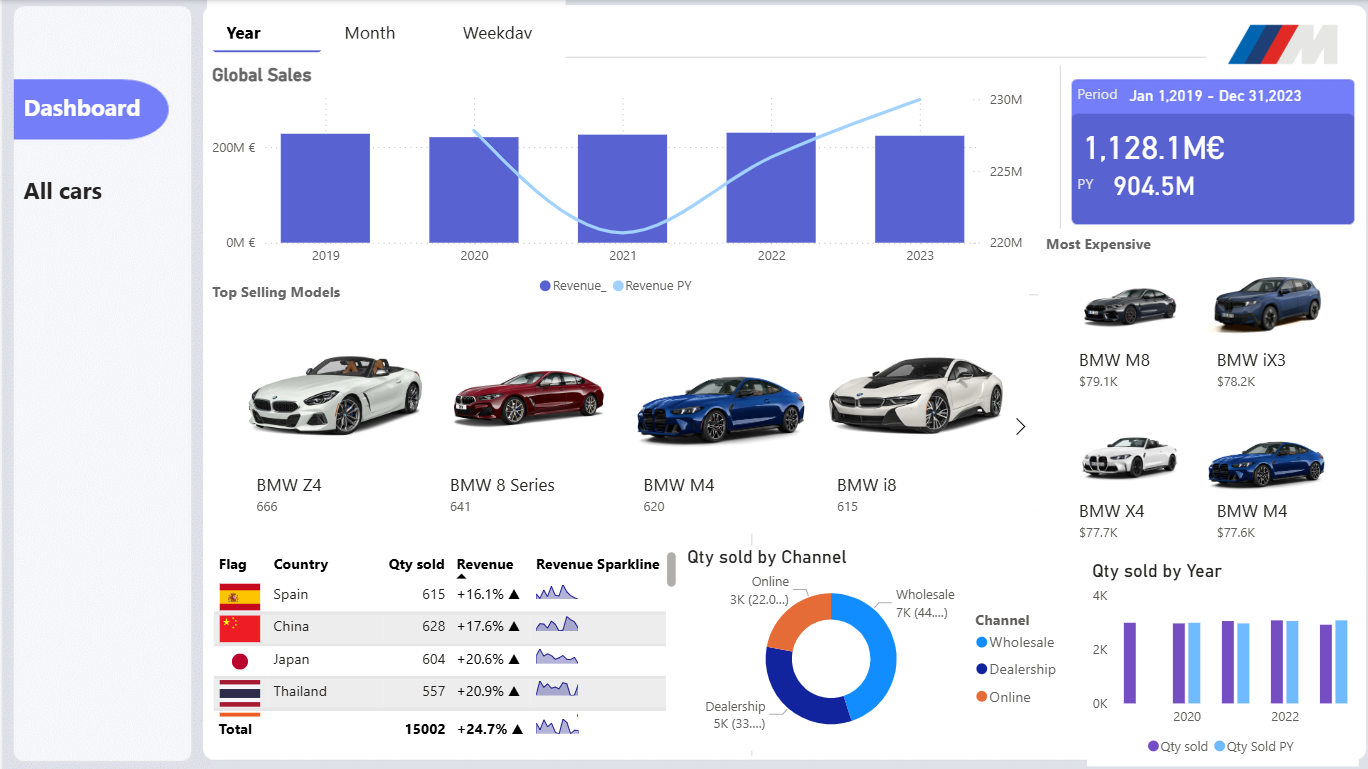

Layout of this report page (visuals, bound fields, positions):
{"tool":"powerbi","page":{"name":"Dashboard","canvas":[1280,720],"ordinal":0},"visuals":[{"type":"lineClusteredColumnComboChart","title":"Global Sales","fields":{"Category":["Calendar.Year"],"Y":["All Measures.Revenue"],"Y2":["All Measures.Revenue PY"]},"box":[190.6,59.3,764.5,224.7],"z":0},{"type":"card","fields":{"Values":["All Measures.Revenue"]},"box":[966.8,113.8,210.1,42.8],"z":1000},{"type":"card","fields":{"Values":["All Measures.Revenue PY"]},"box":[1001.1,150.7,141,42.6],"z":2000},{"type":"textbox","box":[995,156.6,37.9,31.1],"z":3000},{"type":"card","fields":{"Values":["All Measures.Selected Period"]},"box":[994.9,68.3,267.8,42.6],"z":4000},{"type":"advancedSlicerVisual","fields":{"Values":["PeriodSlicer.PeriodSlicer"]},"box":[190.7,0,333.7,54.7],"z":5000},{"type":"textbox","box":[190.6,256.8,147.8,27.2],"z":6000},{"type":"advancedSlicerVisual","fields":{"Values":["dimModel.Model"]},"box":[199.4,296.7,764.5,200.4],"z":7000},{"type":"advancedSlicerVisual","fields":{"Values":["dimModel.Model"]},"box":[963.9,238.3,298.6,282.1],"z":8000},{"type":"textbox","box":[966.8,213,148.8,27.2],"z":9000},{"type":"clusteredColumnChart","title":"Qty sold by Year","fields":{"Y":["All Measures.Qty sold","All Measures.Qty Sold PY"],"Category":["Calendar.Year"]},"box":[1009.6,520.4,252.9,191.6],"z":10000},{"type":"donutChart","fields":{"Y":["All Measures.Qty sold"],"Category":["dimChannel.Channel"]},"box":[632.2,507.7,362.8,190.6],"z":11000},{"type":"tableEx","fields":{"Values":["dimCountry.Flag","dimCountry.Country","All Measures.Qty sold","All Measures.RevenueVariance % Arrow","All Measures.Revenue Sparkline"]},"box":[190.6,507.7,441.6,190.6],"z":12000},{"type":"textbox","box":[15.6,80.7,159.5,51.6],"z":13000},{"type":"actionButton","box":[14.6,144,127.4,69.1],"z":14000},{"type":"textbox","box":[14.6,156.6,106,43.8],"z":15000},{"type":"actionButton","box":[15.6,80.7,118.7,45.7],"z":16000},{"type":"image","box":[1119.5,8.8,143,64.2],"z":18000},{"type":"textbox","box":[995,72.9,160.5,44.7],"z":19000}]}

Visuals, with their boxes in screenshot pixels (x1, y1, x2, y2), scaled from the page's 1280x720 canvas onto the 1368x769 screenshot:
"Global Sales" lineClusteredColumnComboChart: [left=204, top=63, right=1021, bottom=303]
card - All Measures.Revenue: [left=1033, top=122, right=1258, bottom=167]
card - All Measures.Revenue PY: [left=1070, top=161, right=1221, bottom=206]
textbox: [left=1063, top=167, right=1104, bottom=200]
card - All Measures.Selected Period: [left=1063, top=73, right=1350, bottom=118]
advancedSlicerVisual - PeriodSlicer.PeriodSlicer: [left=204, top=0, right=560, bottom=58]
textbox: [left=204, top=274, right=362, bottom=303]
advancedSlicerVisual - dimModel.Model: [left=213, top=317, right=1030, bottom=531]
advancedSlicerVisual - dimModel.Model: [left=1030, top=255, right=1349, bottom=556]
textbox: [left=1033, top=227, right=1192, bottom=257]
"Qty sold by Year" clusteredColumnChart: [left=1079, top=556, right=1349, bottom=760]
donutChart - All Measures.Qty sold x dimChannel.Channel: [left=676, top=542, right=1063, bottom=746]
tableEx - dimCountry.Flag x dimCountry.Country: [left=204, top=542, right=676, bottom=746]
textbox: [left=17, top=86, right=187, bottom=141]
actionButton: [left=16, top=154, right=152, bottom=228]
textbox: [left=16, top=167, right=129, bottom=214]
actionButton: [left=17, top=86, right=144, bottom=135]
image: [left=1196, top=9, right=1349, bottom=78]
textbox: [left=1063, top=78, right=1235, bottom=126]
